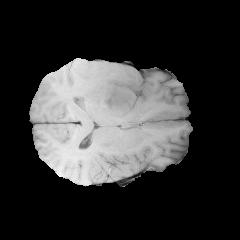glioma: (70, 72, 135, 111)
